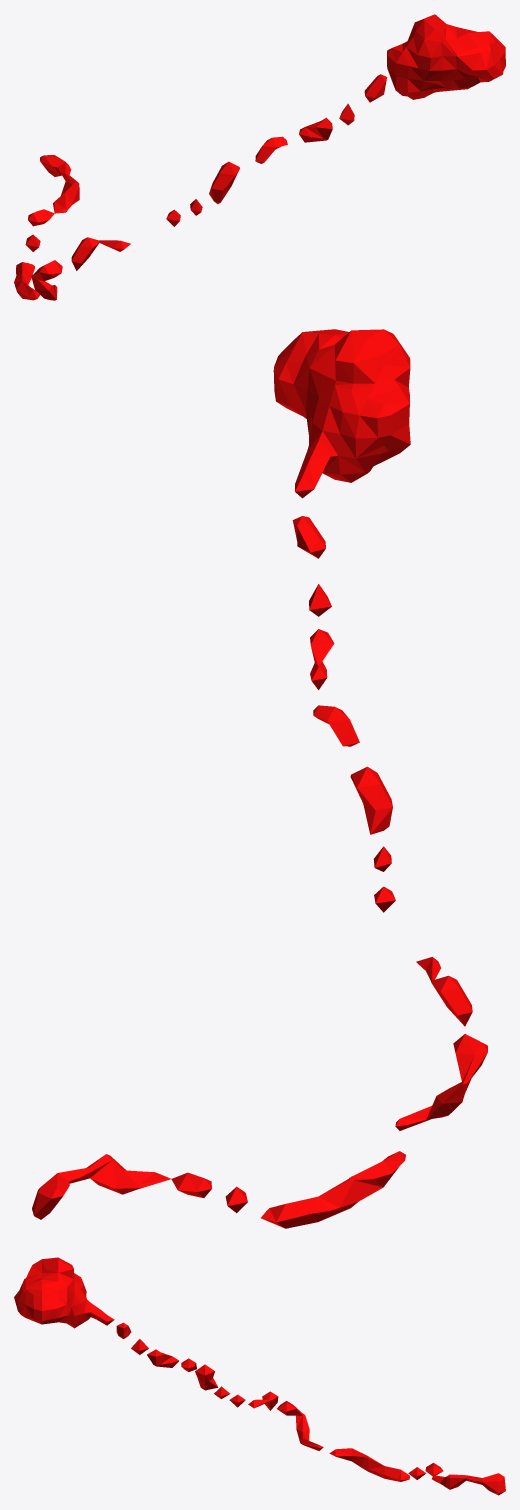
File: yhjA_coarse.dae
The picture shows the model from 3 angles, top to bottom: view 1: azimuth 30°, elevation 25°; view 2: azimuth 150°, elevation 25°; view 3: azimuth 270°, elevation 25°; orthographic projection. The views are drawn at different scales.
Parts seen in each view (by area): view 1: yhjA; view 2: yhjA; view 3: yhjA.
Boxes of the visible parts, x1,y1,x2,y2 form: yhjA: (14, 14, 505, 300); yhjA: (32, 329, 487, 1228); yhjA: (14, 1257, 505, 1495).
Size of the model in its own units: 192 by 234 by 360.
